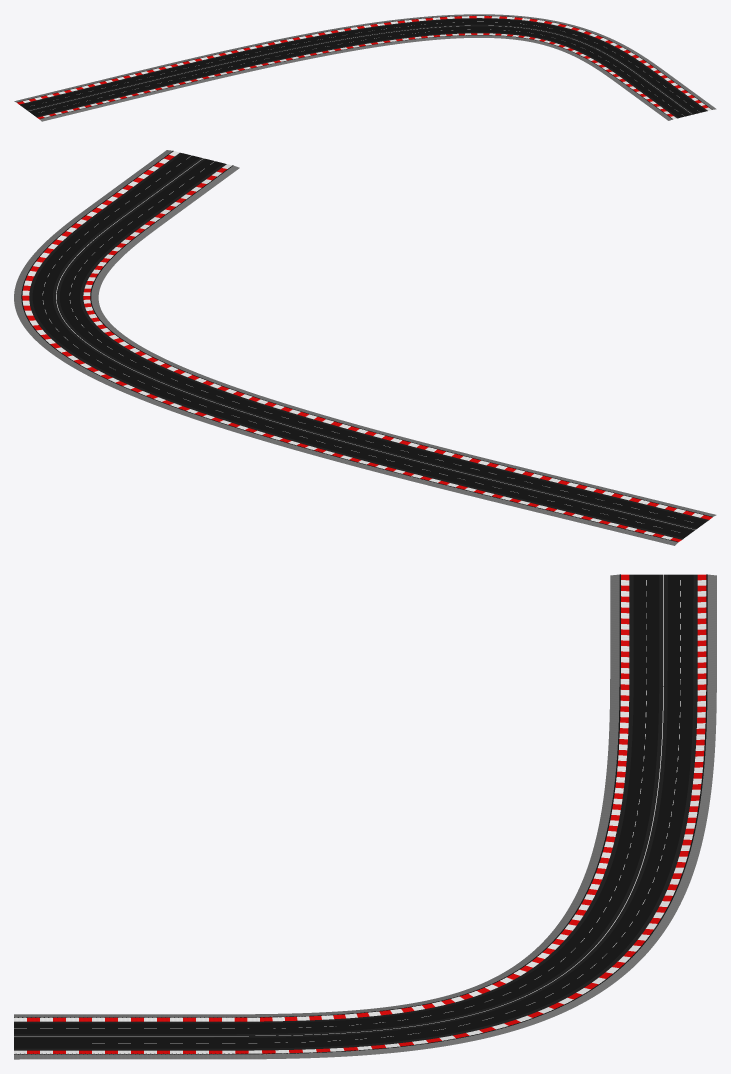
File: S0.1r3-closing.glb
3 views of the same model, one above another, from view 1: azimuth 30°, elevation 25°; view 2: azimuth 150°, elevation 25°; view 3: azimuth 270°, elevation 25° (orthographic). The views are drawn at different scales.
Parts seen in each view (by area): view 1: Grid; view 2: Grid; view 3: Grid.
Part boxes in pixels (bbox=[...]): Grid: bbox=[14, 14, 716, 121]; Grid: bbox=[14, 150, 716, 545]; Grid: bbox=[14, 574, 716, 1059].
Size of the model in its own units: 268 by 0.31 by 165.
